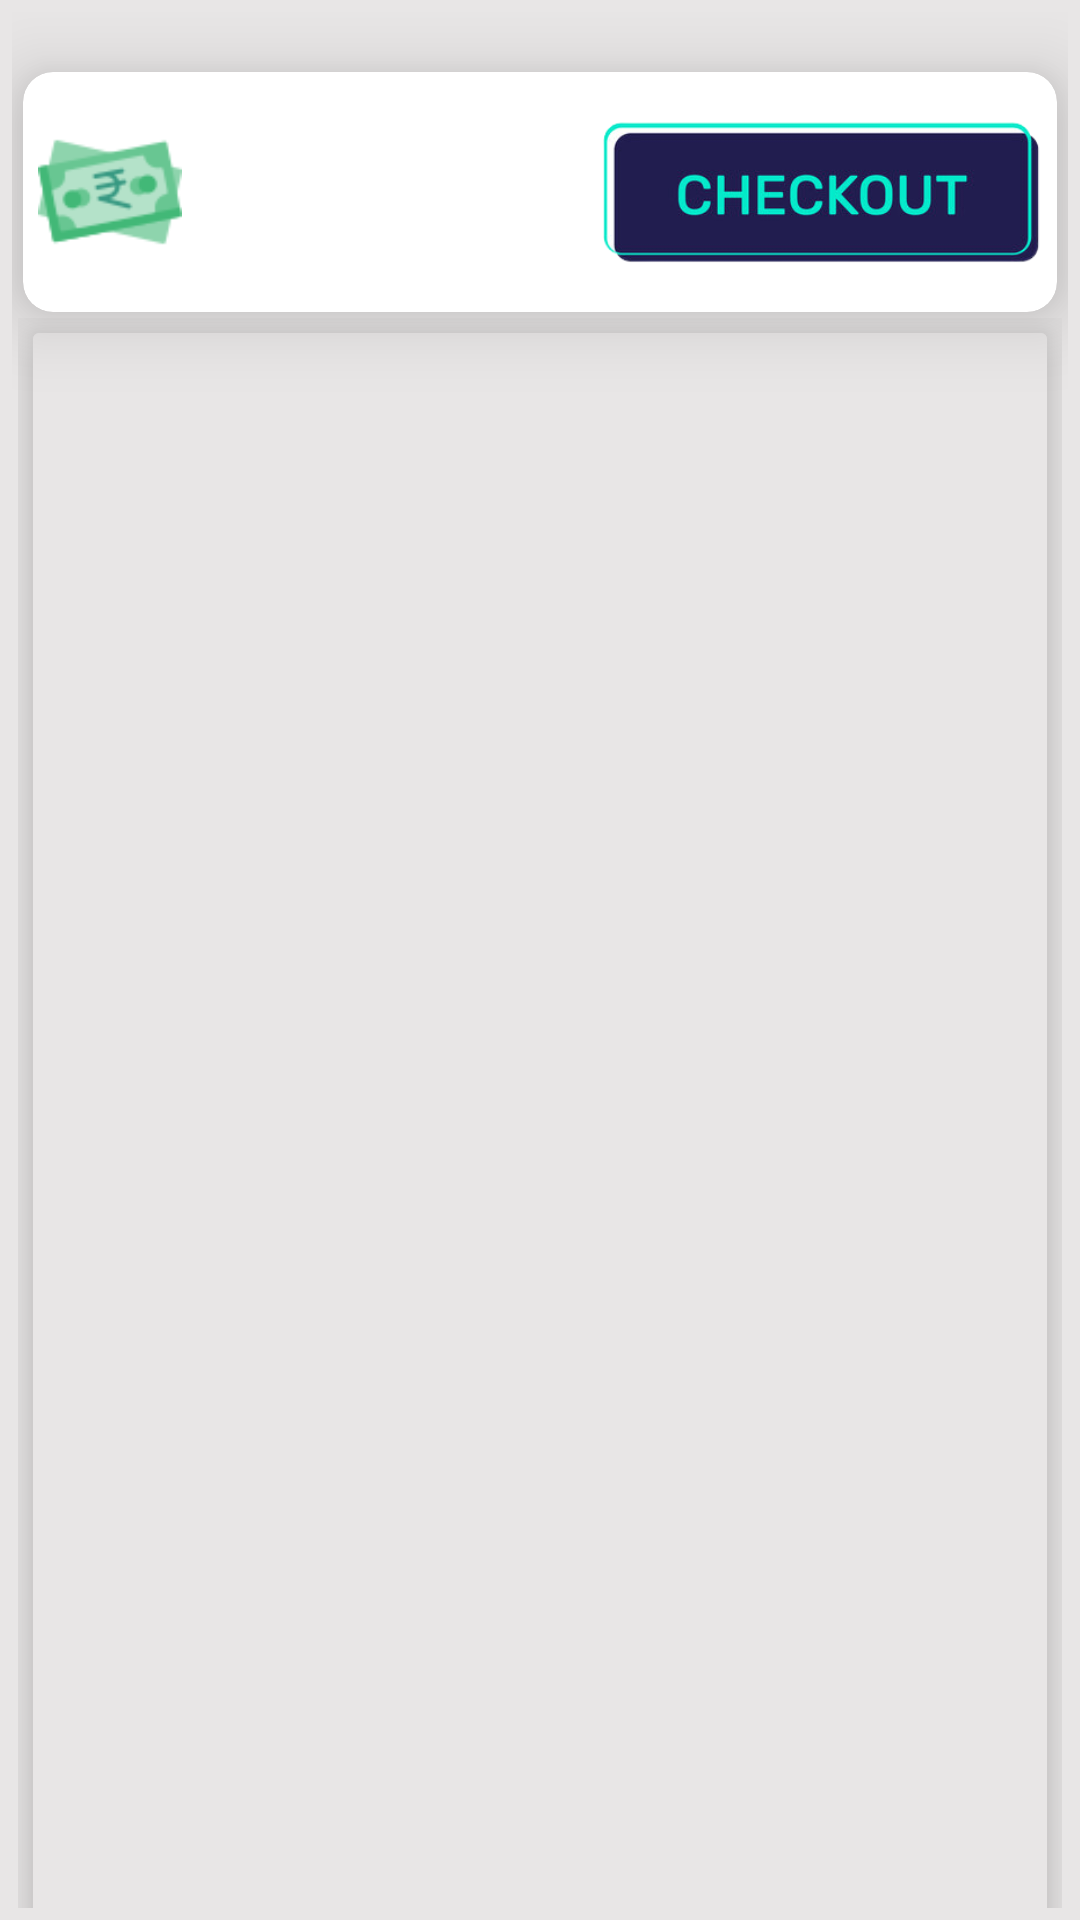

Icon click points for this 1080px×1920px phone screenshot, format (x=x, y=y):
rupee: (x=110, y=192)
